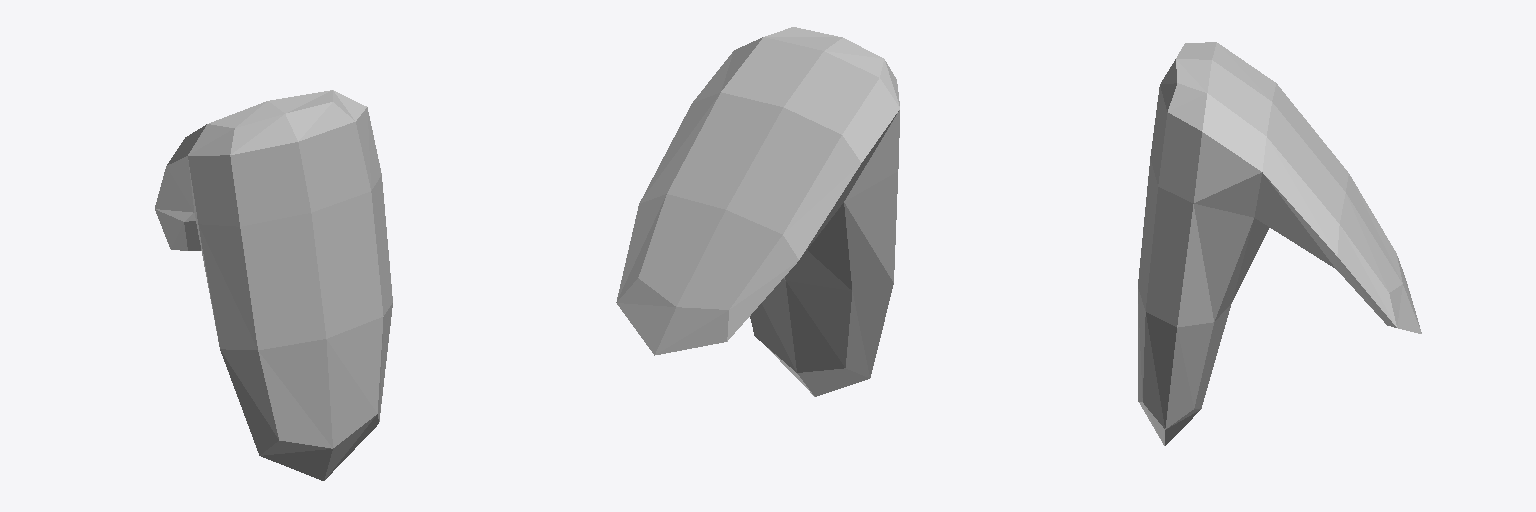
File: pigear.obj
The picture shows the model from 3 angles: view 1: azimuth 30°, elevation 25°; view 2: azimuth 150°, elevation 25°; view 3: azimuth 270°, elevation 25°; orthographic projection.
Visible parts, largest first — view 1: Cube.010; view 2: Cube.010; view 3: Cube.010.
Boxes of the visible parts, x1,y1,x2,y2 form: Cube.010: [155, 90, 392, 480]; Cube.010: [616, 27, 899, 396]; Cube.010: [1138, 42, 1421, 445].
Bounding box in the file's own units: 0.2253 × 0.399 × 0.2767.